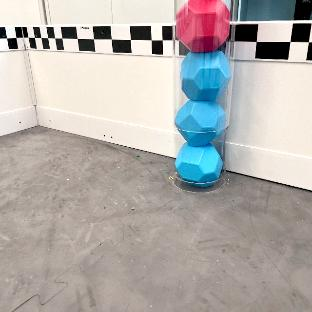Loader: (171, 0, 234, 189)
V5_BLUE: (179, 49, 230, 99), (174, 142, 222, 186), (176, 101, 225, 143)
V5_RED: (177, 0, 230, 51)
